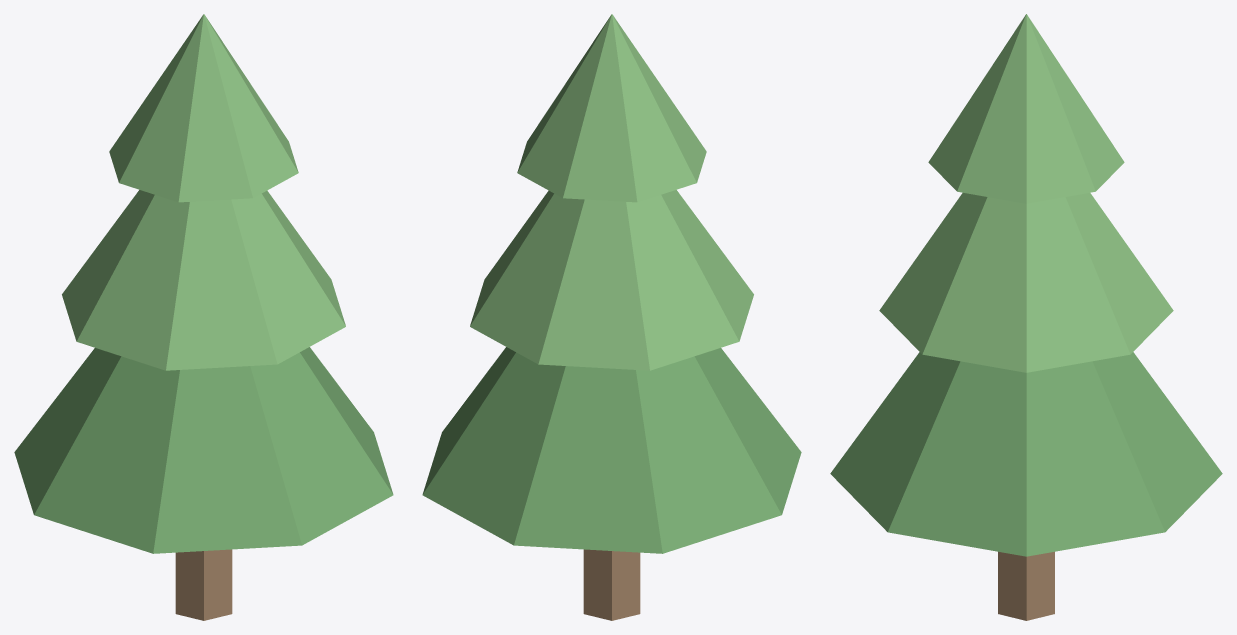
The model's file is pino.glb.
3 views of the same model, side by side, from view 1: azimuth 30°, elevation 25°; view 2: azimuth 150°, elevation 25°; view 3: azimuth 270°, elevation 25° (orthographic).
Visible parts, largest first — view 1: pino; view 2: pino; view 3: pino.
Boxes of the visible parts, x1=… form: pino: x1=14, y1=14, x2=393, y2=620; pino: x1=422, y1=14, x2=801, y2=620; pino: x1=830, y1=14, x2=1222, y2=620.
Bounding box in the file's own units: 1.2 × 2 × 1.2.
